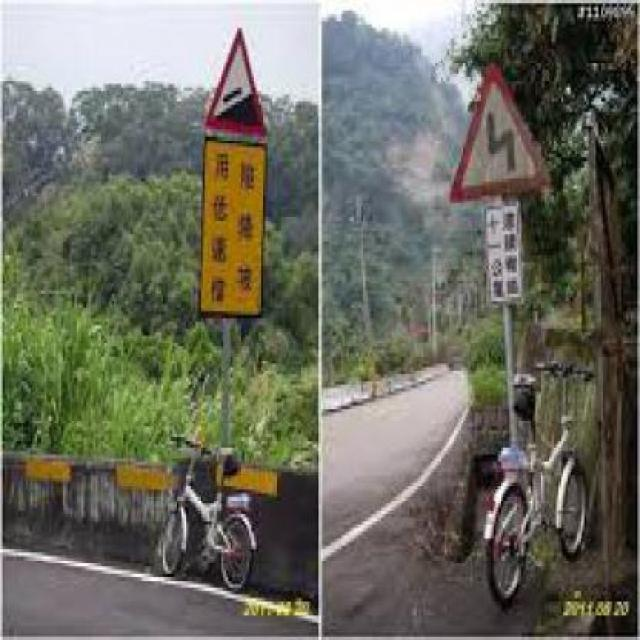warn_double_curve: (447, 56, 552, 199)
